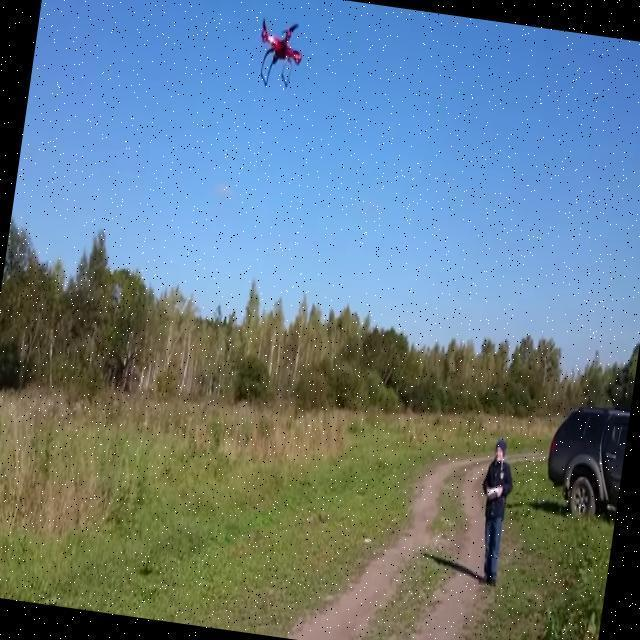Drons: (245, 13, 314, 97)
